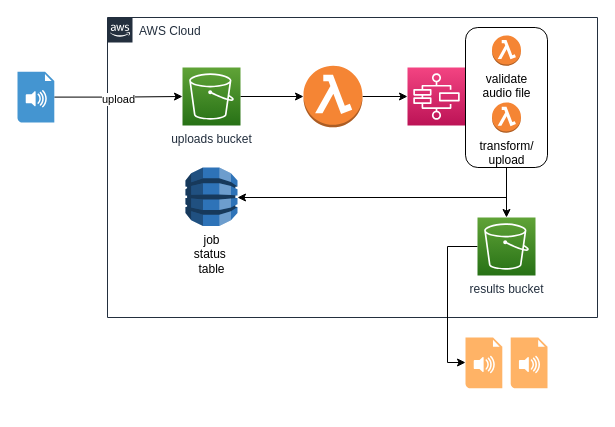
Image size: 615x427. Some labels were removed from this diagram. Here are the shapes that lost their labels. From the top down, the centre of each, then its label:
At [332,96]: "trigger state machine".
At [436,96]: "step functions".
At [483,362]: "separated audio files".
